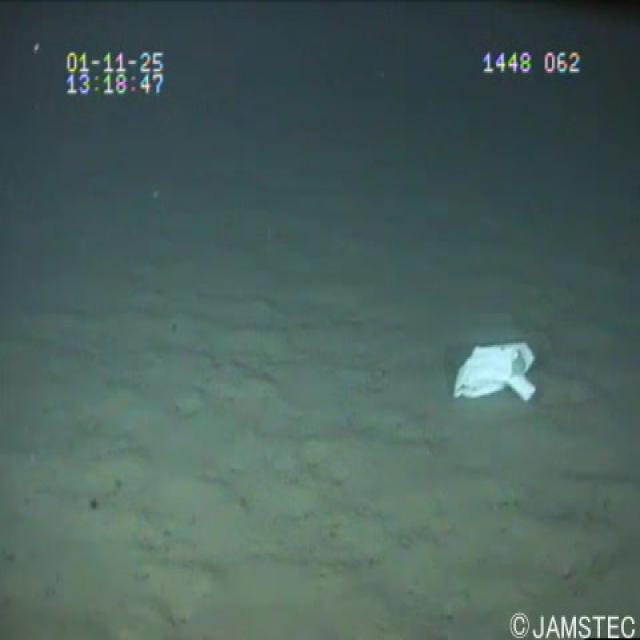plastic: (443, 327, 544, 420)
